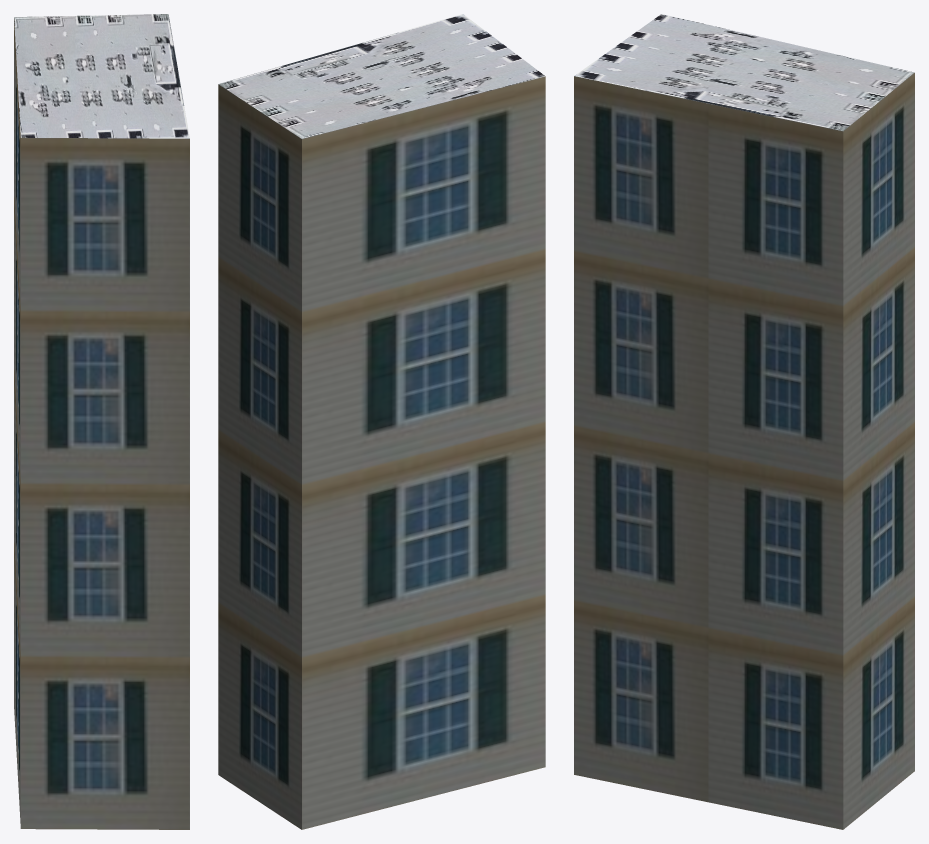
File: ResTex__4478.fbx
The picture shows the model from 3 angles, left to right: view 1: azimuth 30°, elevation 25°; view 2: azimuth 150°, elevation 25°; view 3: azimuth 270°, elevation 25°; orthographic projection.
Parts seen in each view (by area): view 1: CityEngineMaterial_7_m, CityEngineMaterial_m; view 2: CityEngineMaterial_7_m, CityEngineMaterial_m; view 3: CityEngineMaterial_7_m, CityEngineMaterial_m.
Boxes of the visible parts, x1,y1,x2,y2 form: CityEngineMaterial_7_m: (14,18,189,829); CityEngineMaterial_m: (14,14,189,138); CityEngineMaterial_7_m: (218,76,545,829); CityEngineMaterial_m: (218,14,545,138); CityEngineMaterial_7_m: (574,73,914,829); CityEngineMaterial_m: (574,14,914,130).
Size of the model in its own units: 4.32 by 12 by 5.3.
2 materials, 2 textured.
